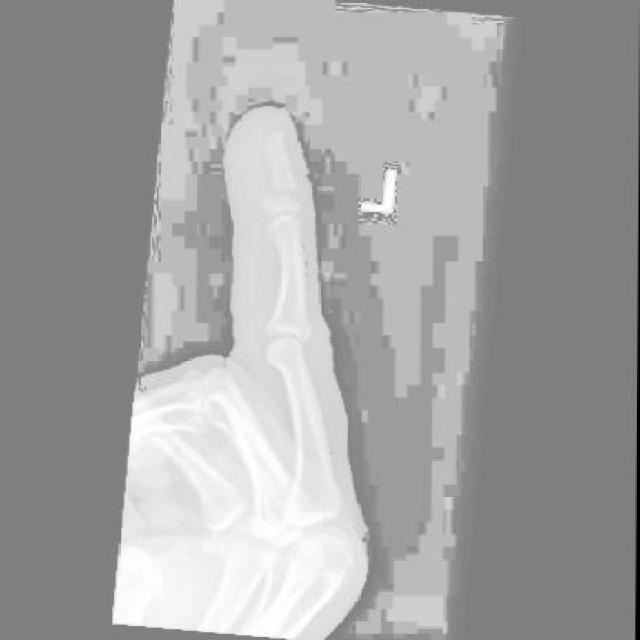Fracture: (262, 177, 304, 216)
